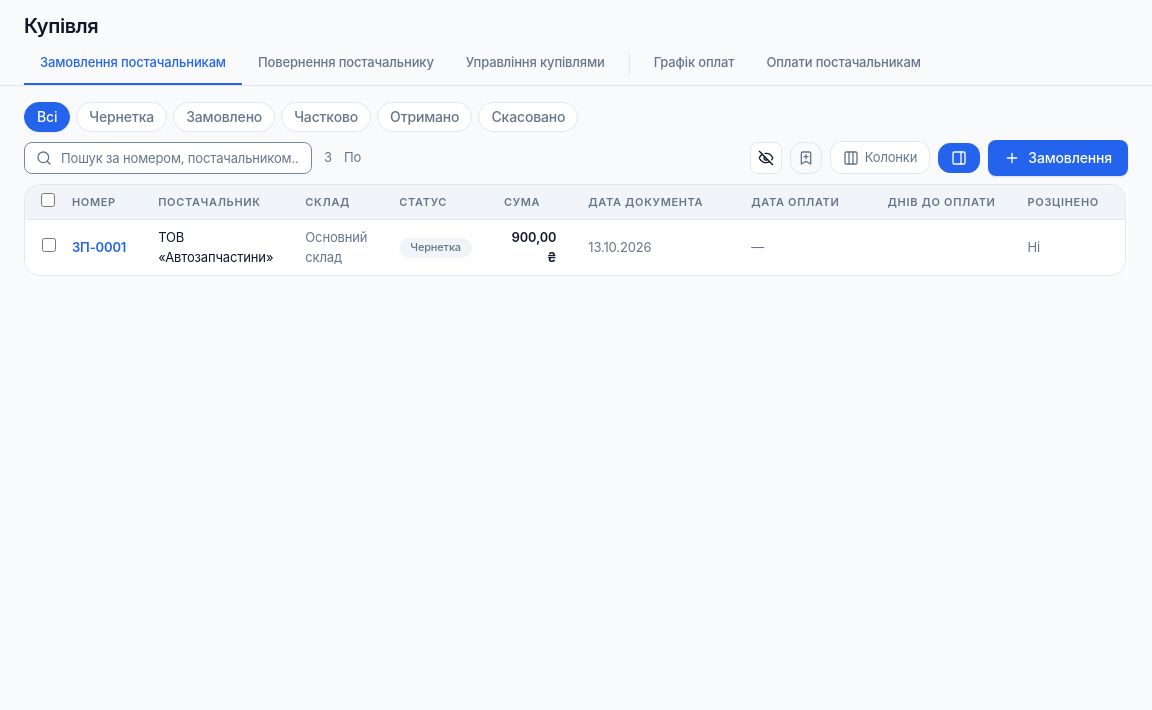
Test: Закупівлі — бокова панель повернень і зведення › замовлення: панель показує зведення з /purchase-orders/:id/lines-summary
Expected: the link "ЗП-0001" is shown, [72, 239, 126, 255]
Click the text "ЗП-0001" at (588, 247), box [25, 220, 1151, 275]
(page scrolled)
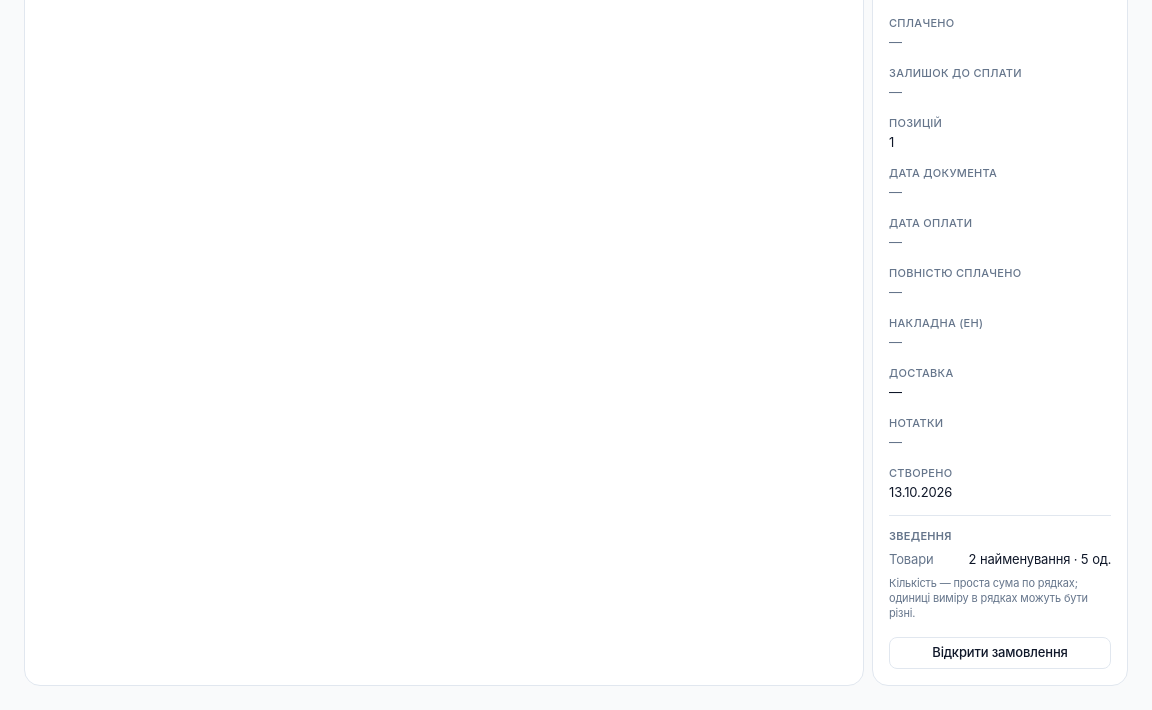
Expected: the element with test id "lines-summary-goods" shows "2 найменування · 5 од.", [968, 551, 1111, 567]
